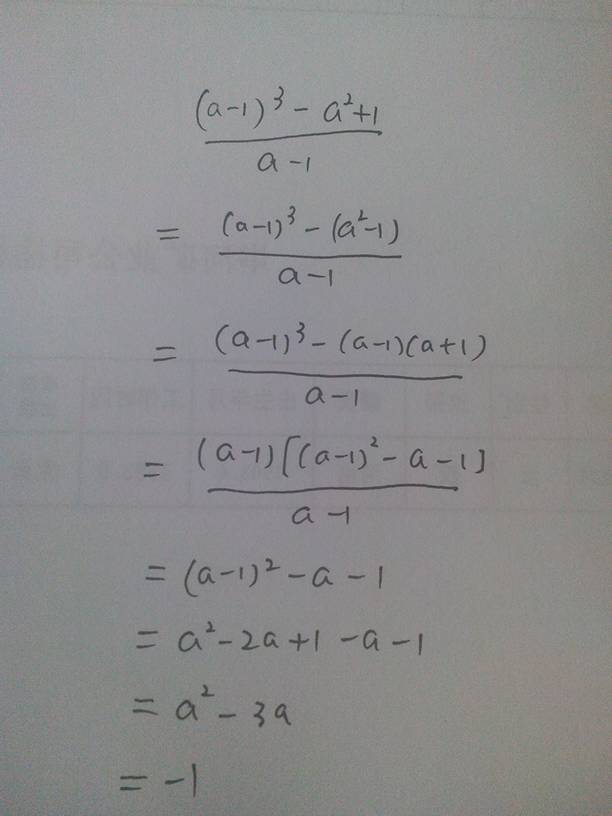cube: (293, 314, 308, 351), (271, 83, 287, 110), (282, 201, 298, 227)
division: (193, 477, 473, 495)
square: (341, 85, 353, 109), (265, 557, 280, 575)
